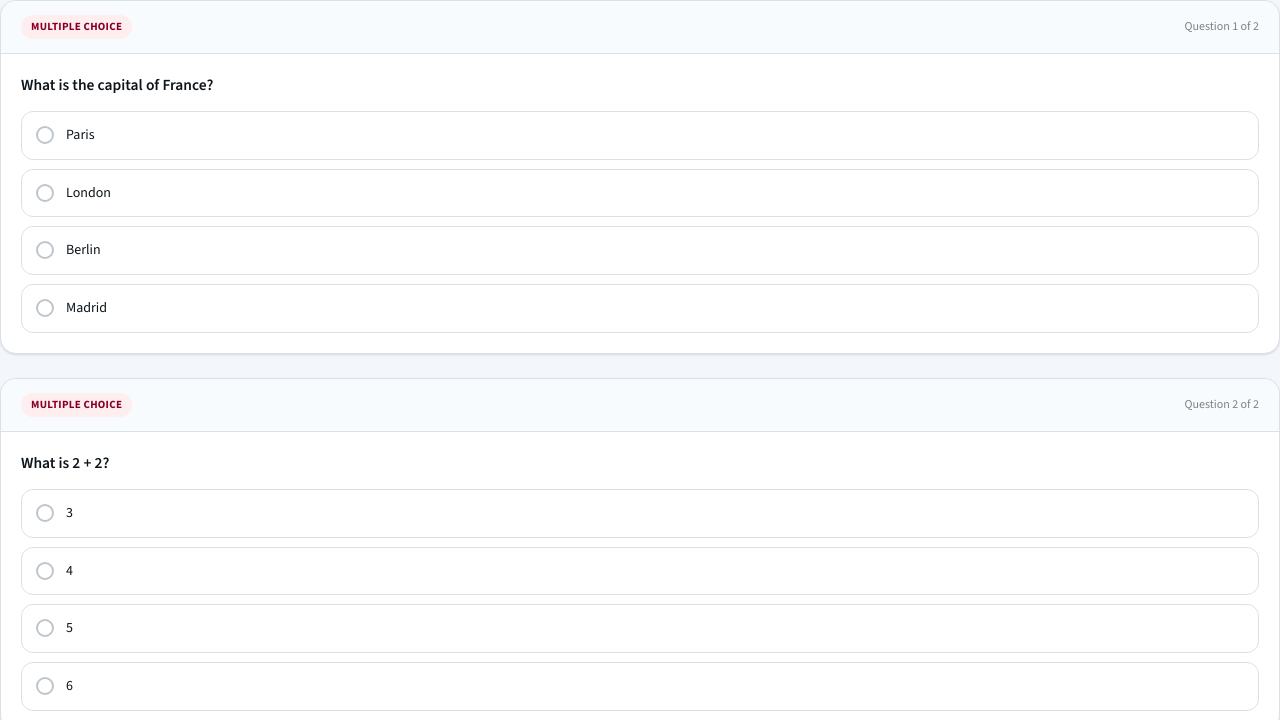
Scenario: QuizForm › shows completion modal when score equals a non-100 passing score
Click the button "Paris" at (45, 135), box [21, 111, 1259, 160]
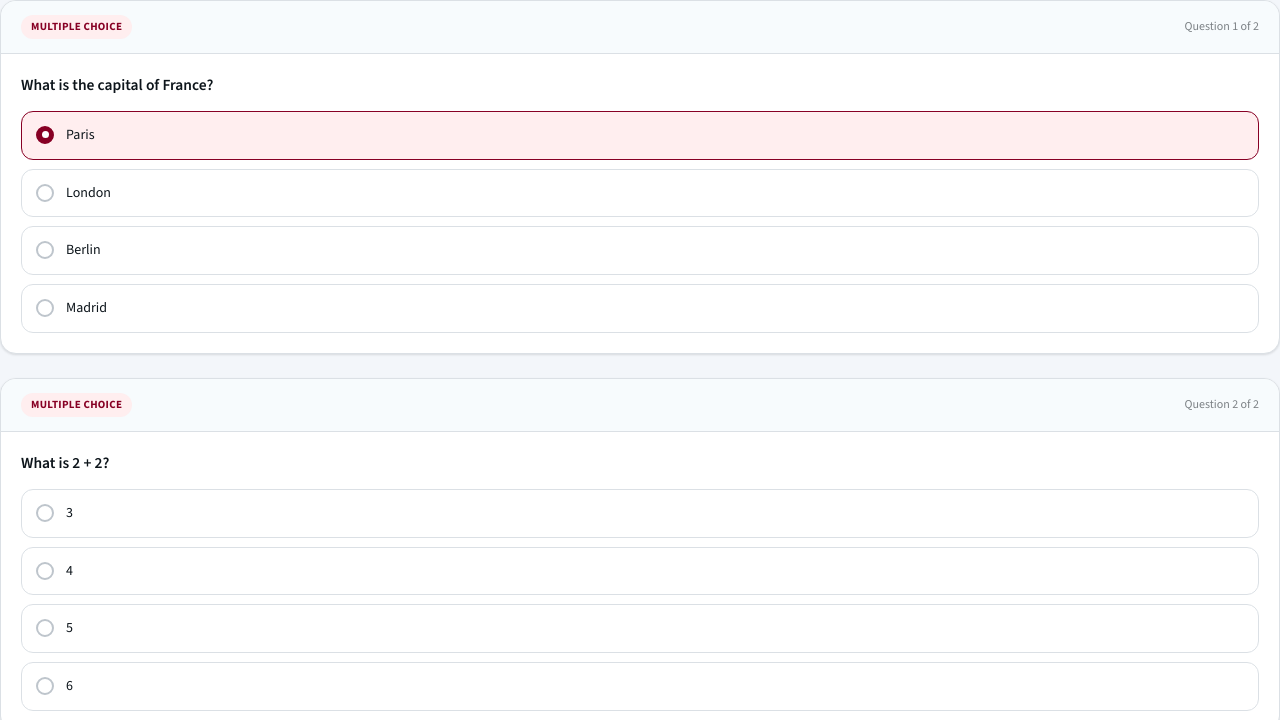
Click the button "4" at (45, 571), box [21, 547, 1259, 595]
(page scrolled)
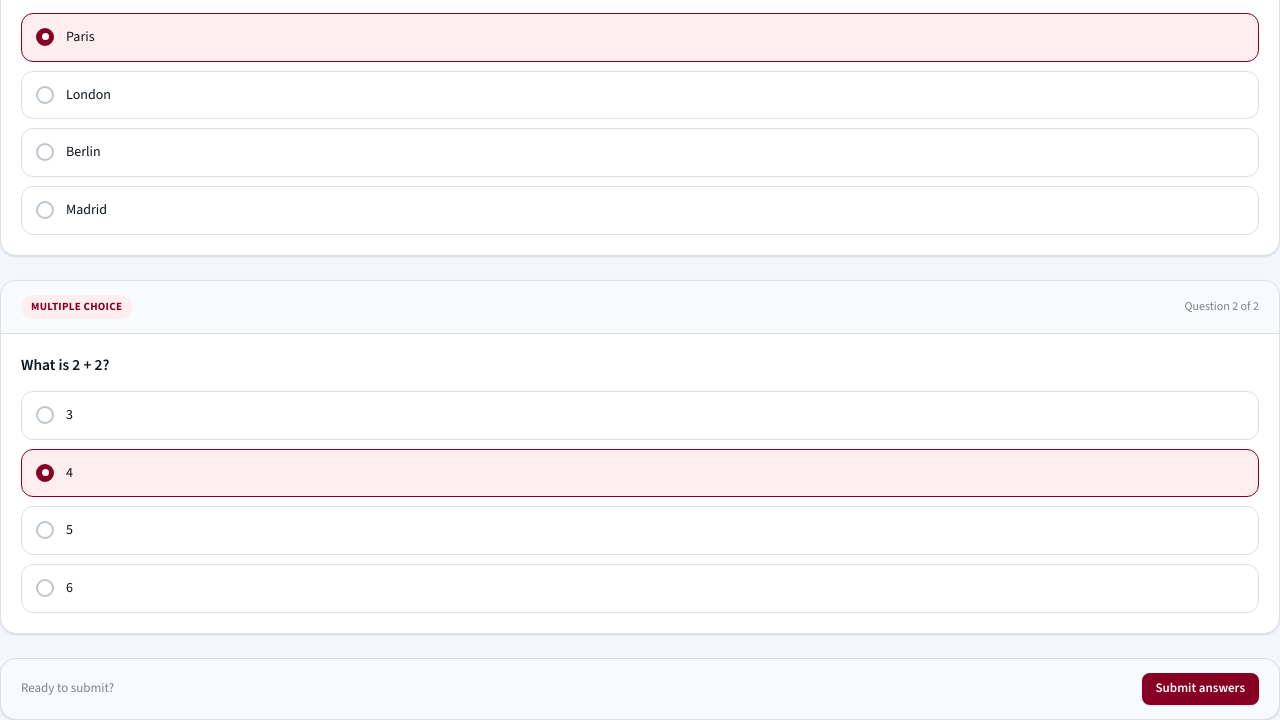
Click the button "Submit answers" at (1200, 689), box [1142, 673, 1259, 705]
(page scrolled)
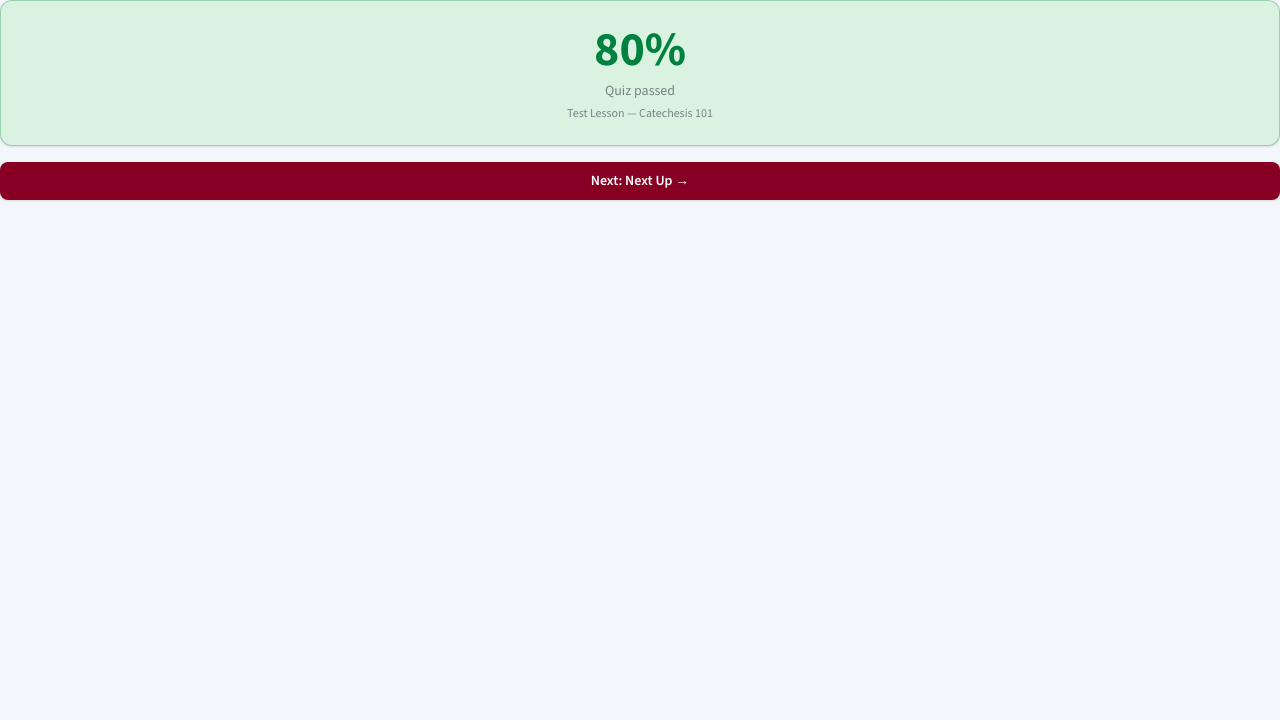
Now the text "80%" is shown, box [594, 17, 686, 81]
